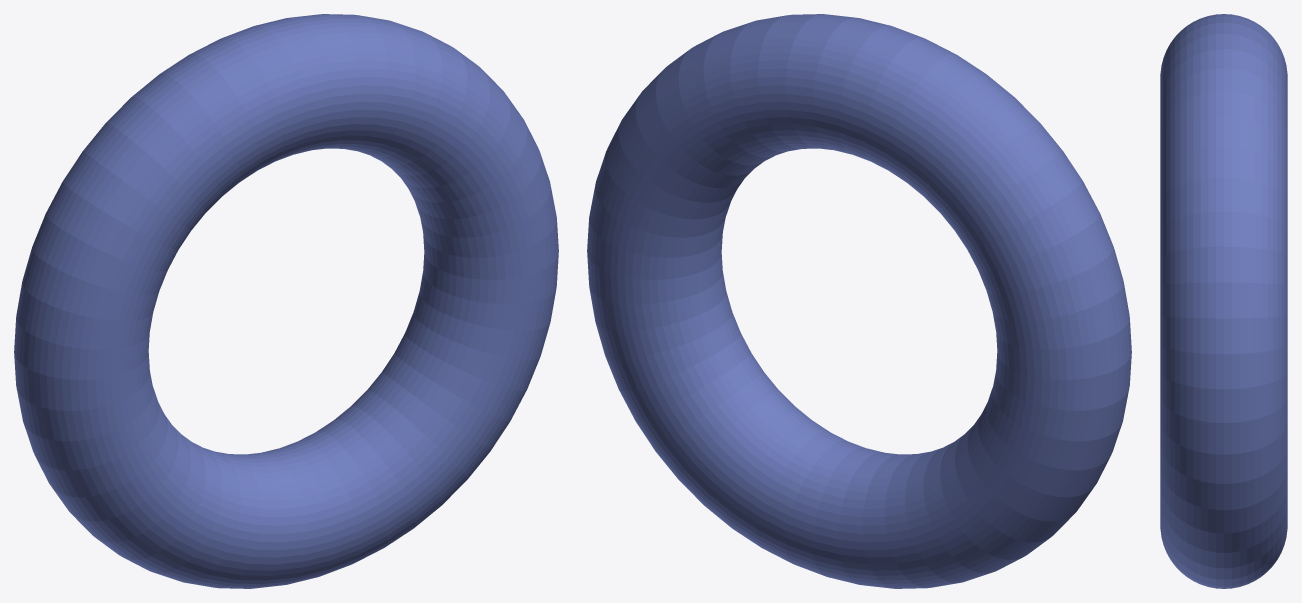
3 renders of one model, left to right at view 1: azimuth 30°, elevation 25°; view 2: azimuth 150°, elevation 25°; view 3: azimuth 270°, elevation 25°, orthographic. The views are drawn at different scales.
Visible parts, largest first — view 1: world; view 2: world; view 3: world.
Boxes of the visible parts, bbox=[...] form: world: bbox=[14, 14, 558, 588]; world: bbox=[587, 14, 1131, 588]; world: bbox=[1160, 14, 1287, 588].
Size of the model in its own units: 16.27 by 16.23 by 3.59.
